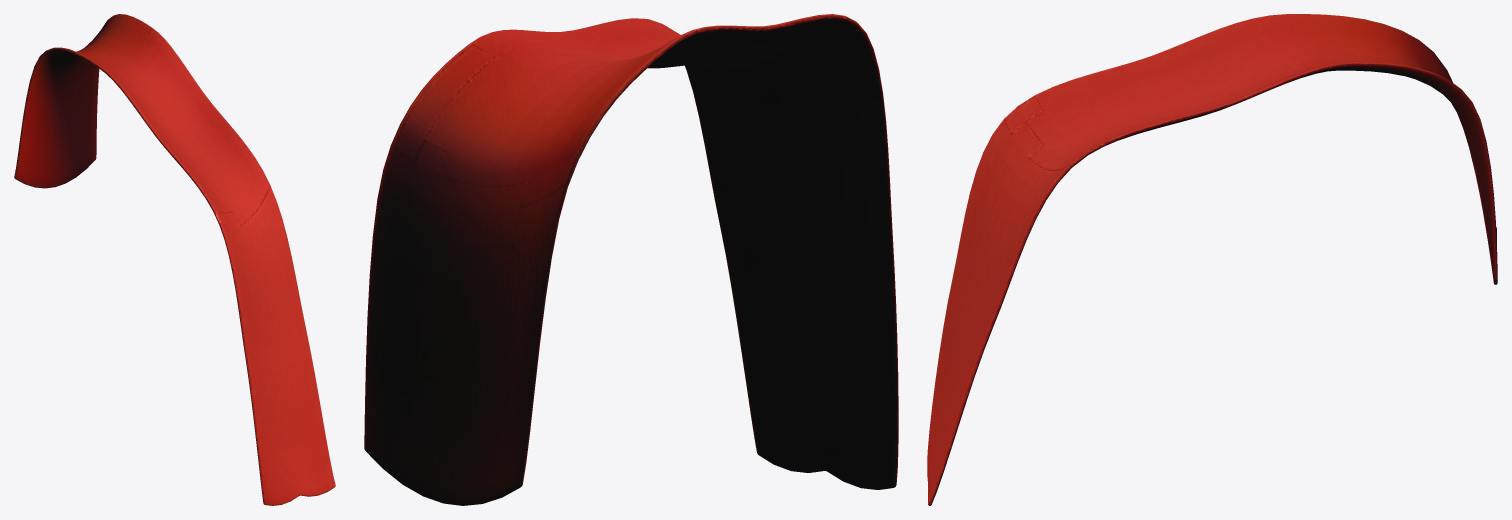
File: bookmark.glb
3 views of the same model, side by side, from view 1: azimuth 30°, elevation 25°; view 2: azimuth 150°, elevation 25°; view 3: azimuth 270°, elevation 25° (orthographic). The views are drawn at different scales.
Parts seen in each view (by area): view 1: Bookmark; view 2: Bookmark; view 3: Bookmark.
Part boxes in pixels (x1,y1,x2,y2): Bookmark: (14, 14, 335, 505); Bookmark: (364, 14, 898, 505); Bookmark: (927, 14, 1497, 505).
Bounding box in the file's own units: 0.00674 × 0.0224 × 0.0264.
Materials: 1 (1 with a texture image).
